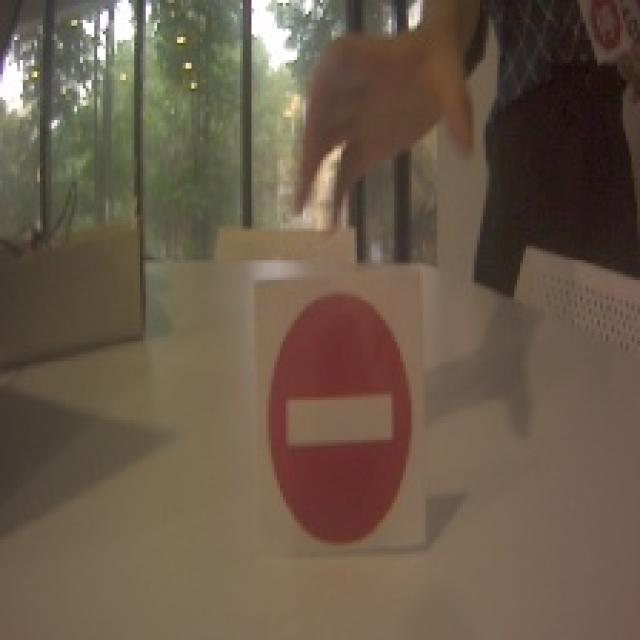DoNotEnterSign: (259, 292, 420, 550)
